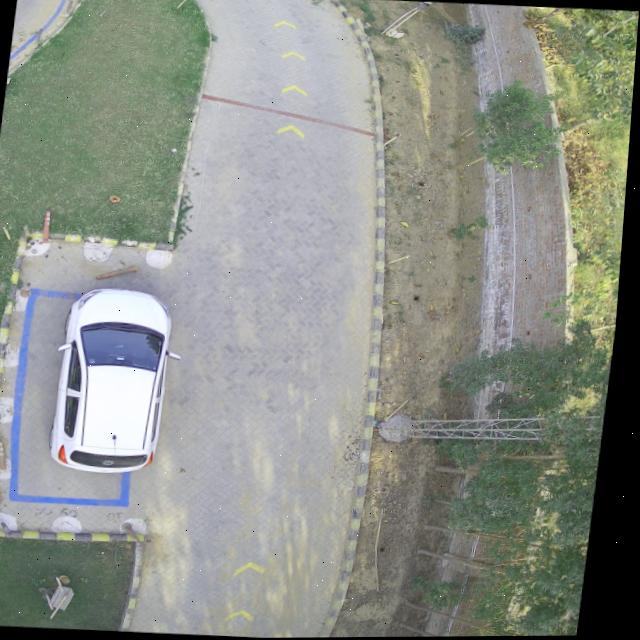car: (56, 289, 175, 473)
